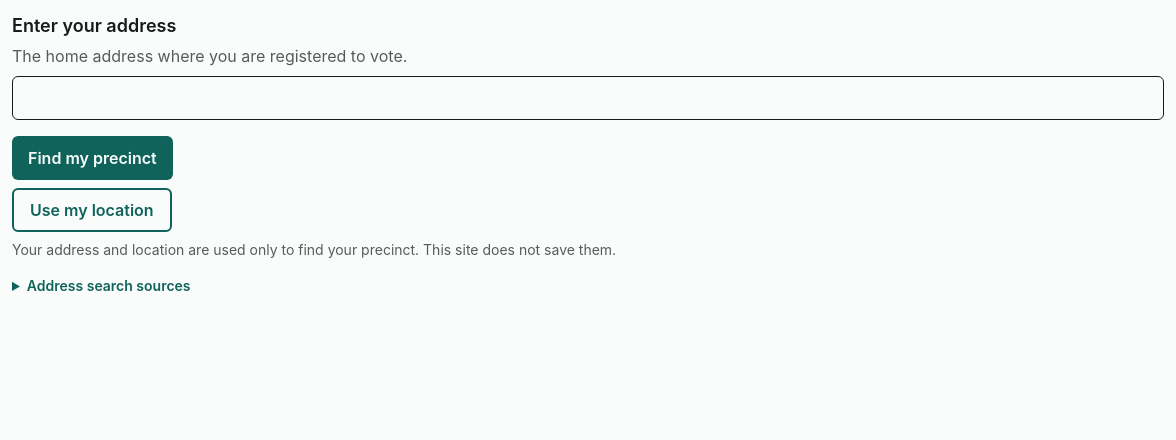
Test: AddressLookup failure states (#18) › says plainly when the browser is offline
Type "7700 Fine Rd, Saint Louis, MO 63129" into the dropdown labelled "Enter your address" at coordinates (588, 98), box [12,76,1164,120]
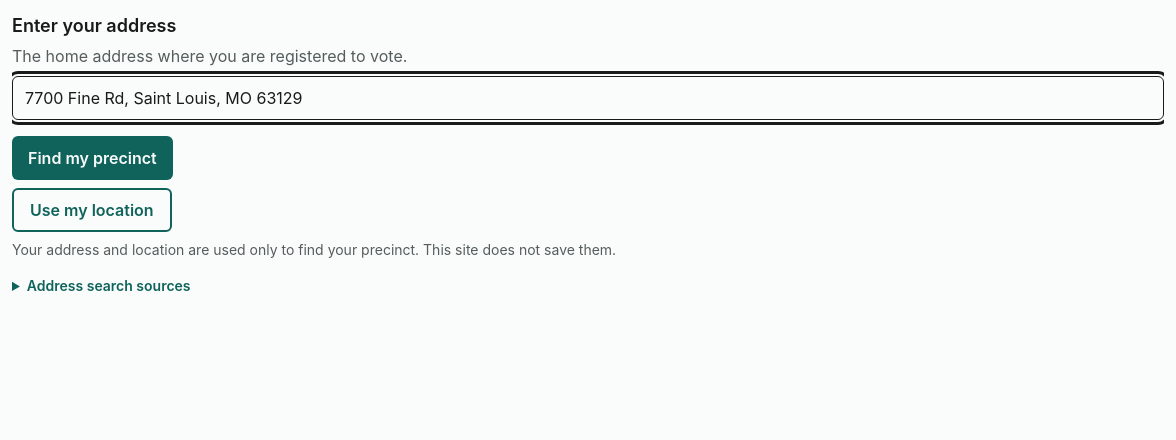
Click the button "Find my precinct" at coordinates (92, 158), box [12,136,173,180]
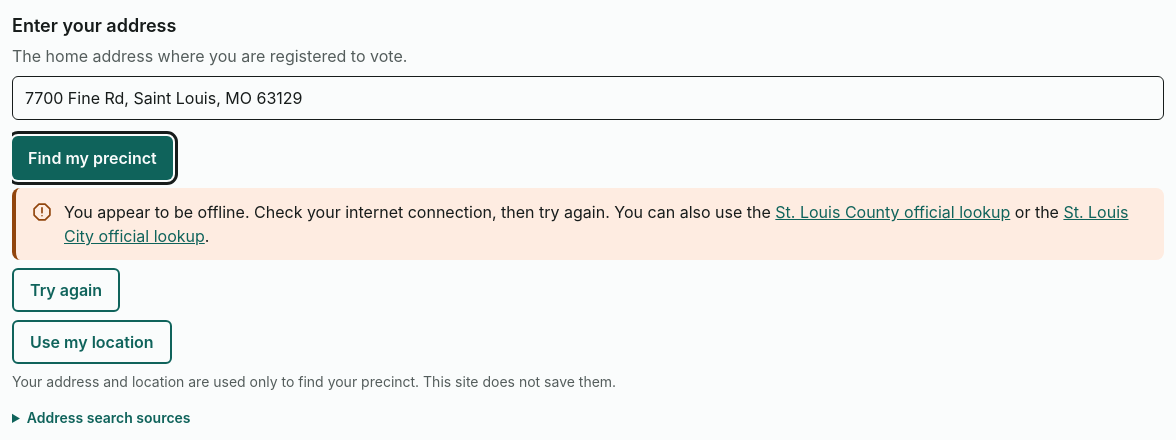
Expected: the text "You appear to be offline. Check your internet connection, then try again." is shown, [64,202,610,222]
Expected: the button "Try again" is shown, [12,268,120,312]
